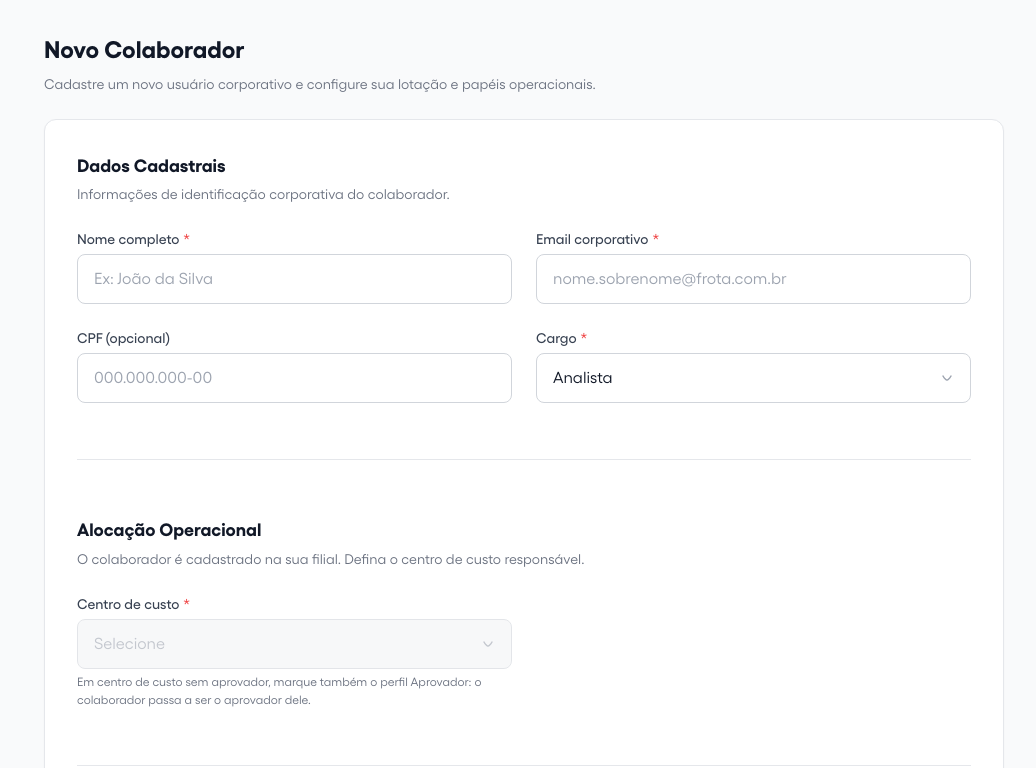
it: EmployeeCreate › cadastra pela API na própria filial quando o usuário é admin de filial
The image size is (1036, 768).
In the field labelled "Nome completo*": (294, 279) [77,254,512,304], type "Visitante da Feira"
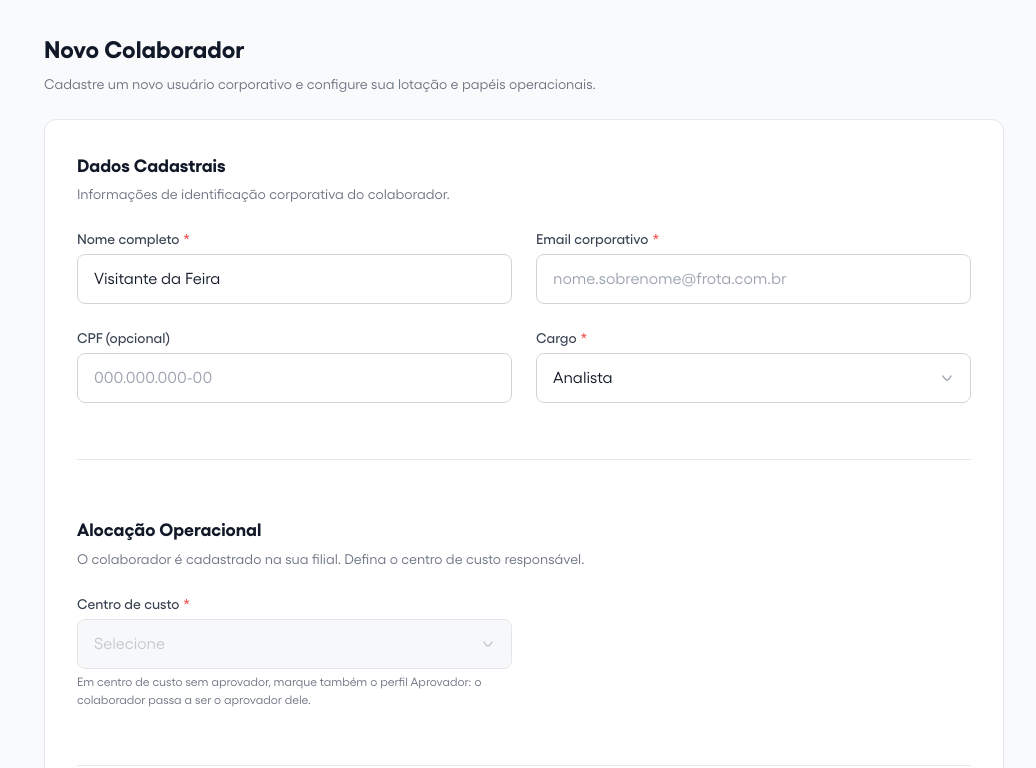
In the field labelled "Email corporativo*": (754, 279) [536,254,971,304], type "visitante@exemplo.com"
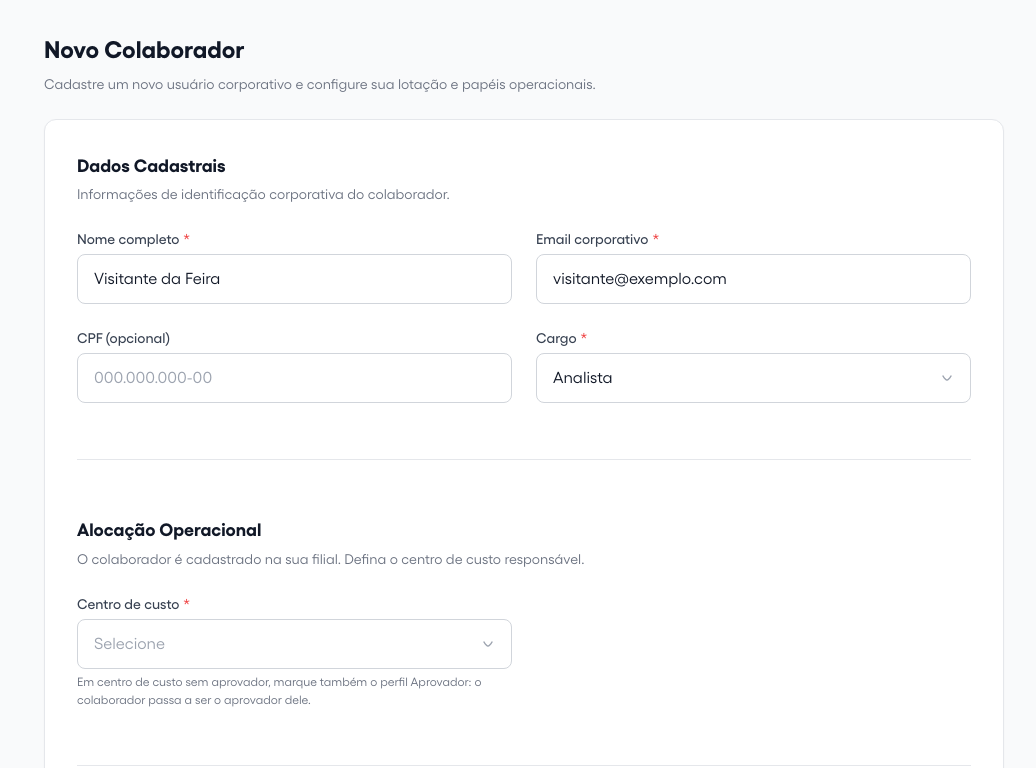
Click the button "Selecione": (129, 643) [77,619,512,669]
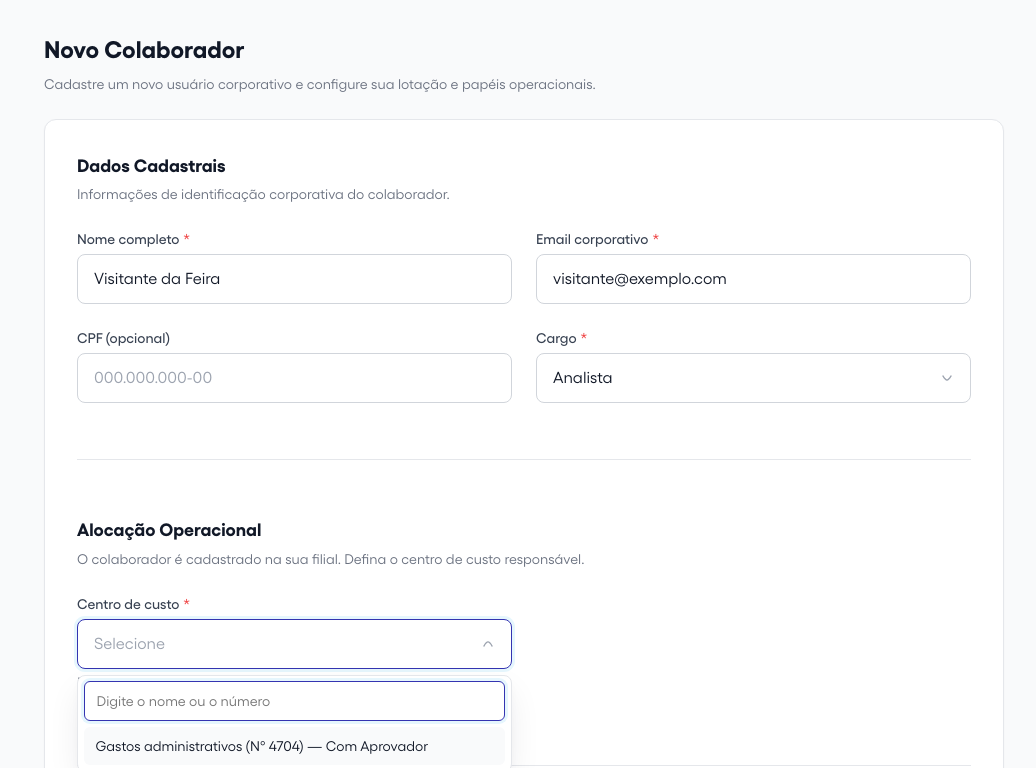
Click the option "Gastos administrativos (Nº 4704) — Com Aprovador": (294, 746) [84,727,505,765]
(page scrolled)
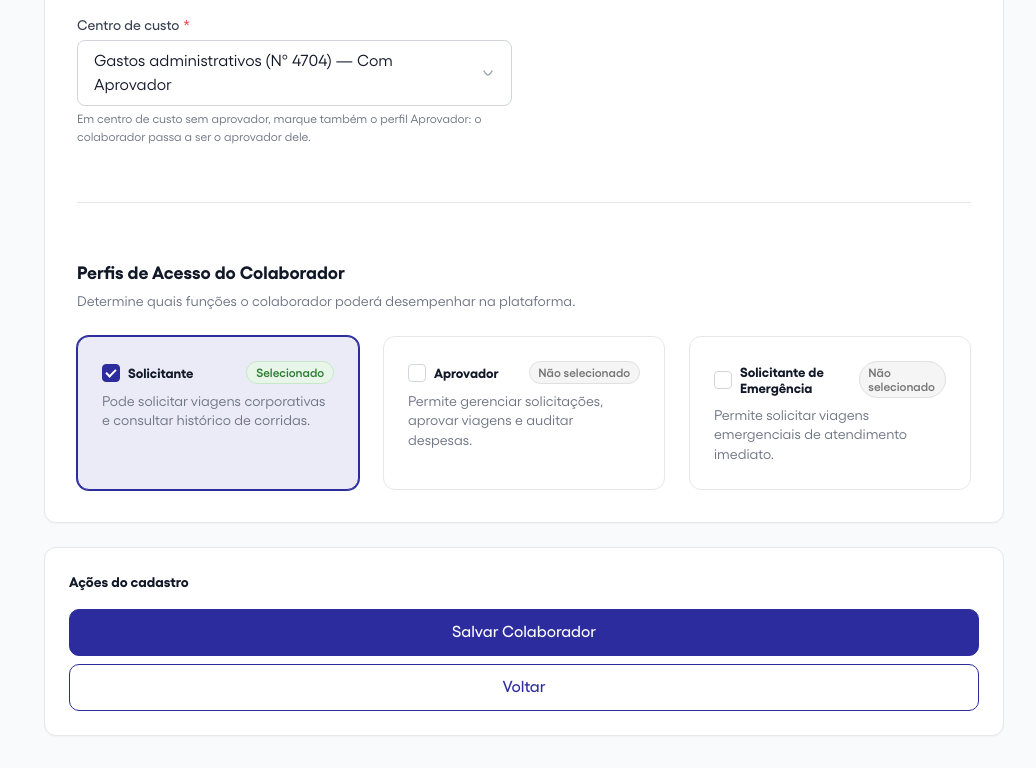
Click the button "Salvar Colaborador": (524, 632) [69,608,979,656]
(page scrolled)
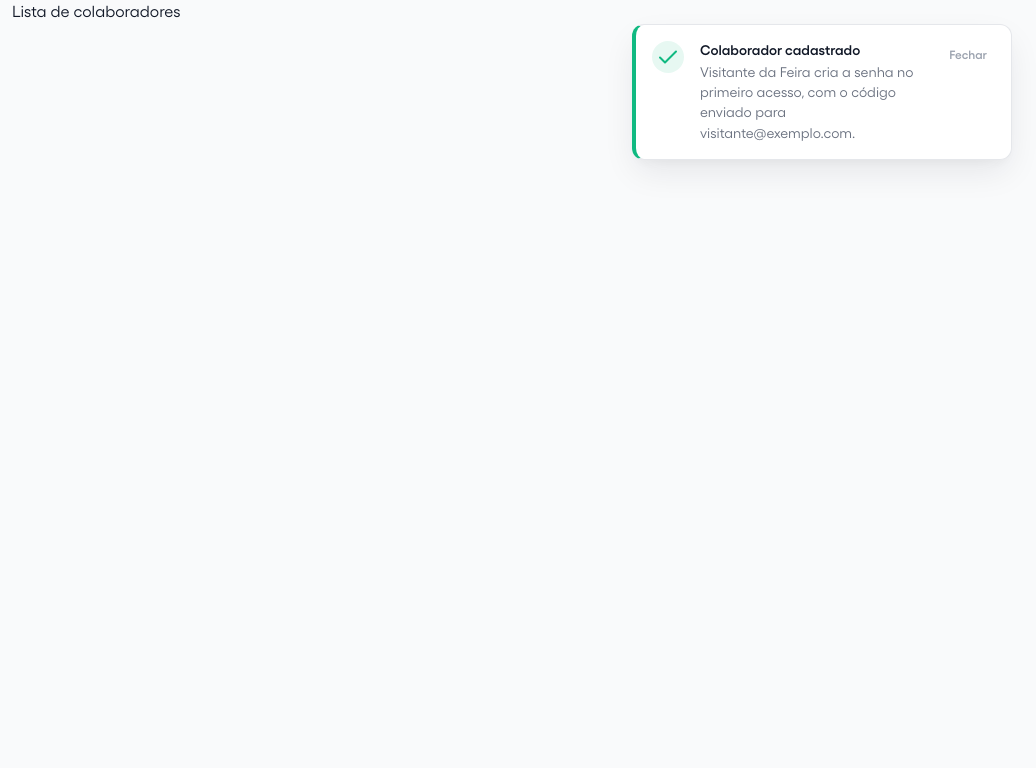
Now the text "Lista de colaboradores" is shown, box [12,2,180,21]
